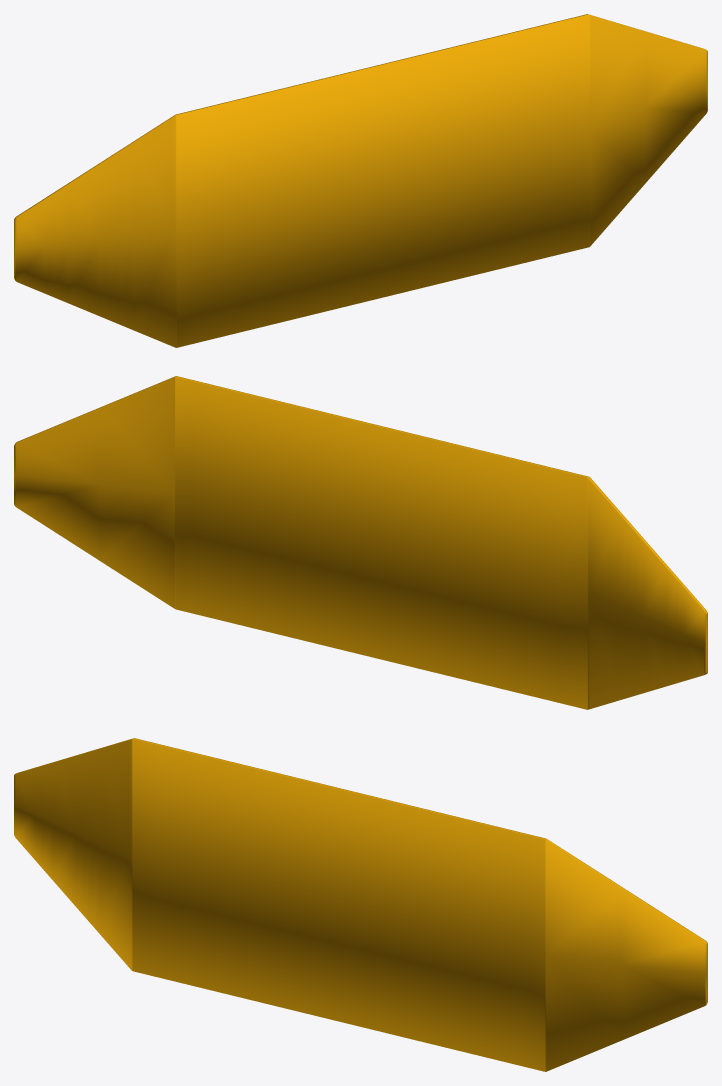
File: pack_top.obj
3 views of the same model, one above another, from view 1: azimuth 30°, elevation 25°; view 2: azimuth 150°, elevation 25°; view 3: azimuth 330°, elevation 25° (orthographic).
Bounding box in the file's own units: 0.6563 × 0.21 × 0.038.
Materials: 1 (1 with a texture image).
